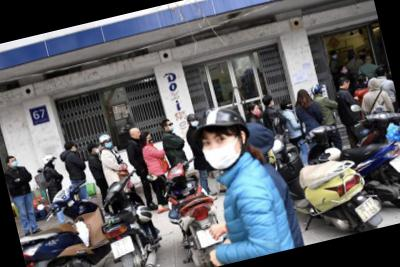with_mask: (199, 127, 247, 176), (190, 117, 201, 130), (10, 158, 20, 168), (167, 122, 176, 133), (104, 140, 114, 149), (147, 134, 155, 145), (254, 105, 262, 116), (93, 146, 101, 155), (342, 67, 350, 75), (288, 102, 295, 111), (331, 53, 339, 60), (52, 158, 57, 168), (271, 99, 277, 107), (366, 78, 371, 86)
without_mask: (132, 128, 144, 140), (344, 81, 353, 91)
